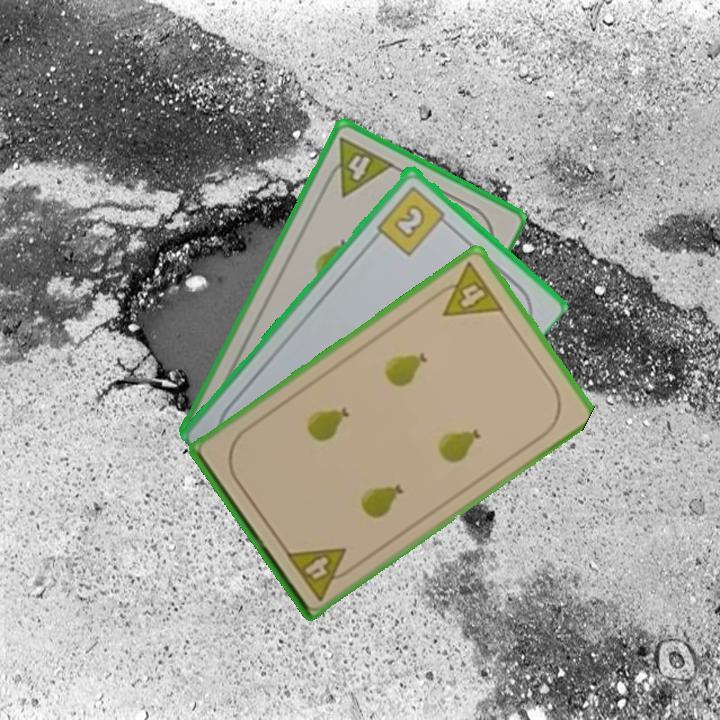2b: (373, 182, 453, 258)
4p: (319, 133, 397, 200), (427, 258, 507, 320), (282, 543, 359, 603)
